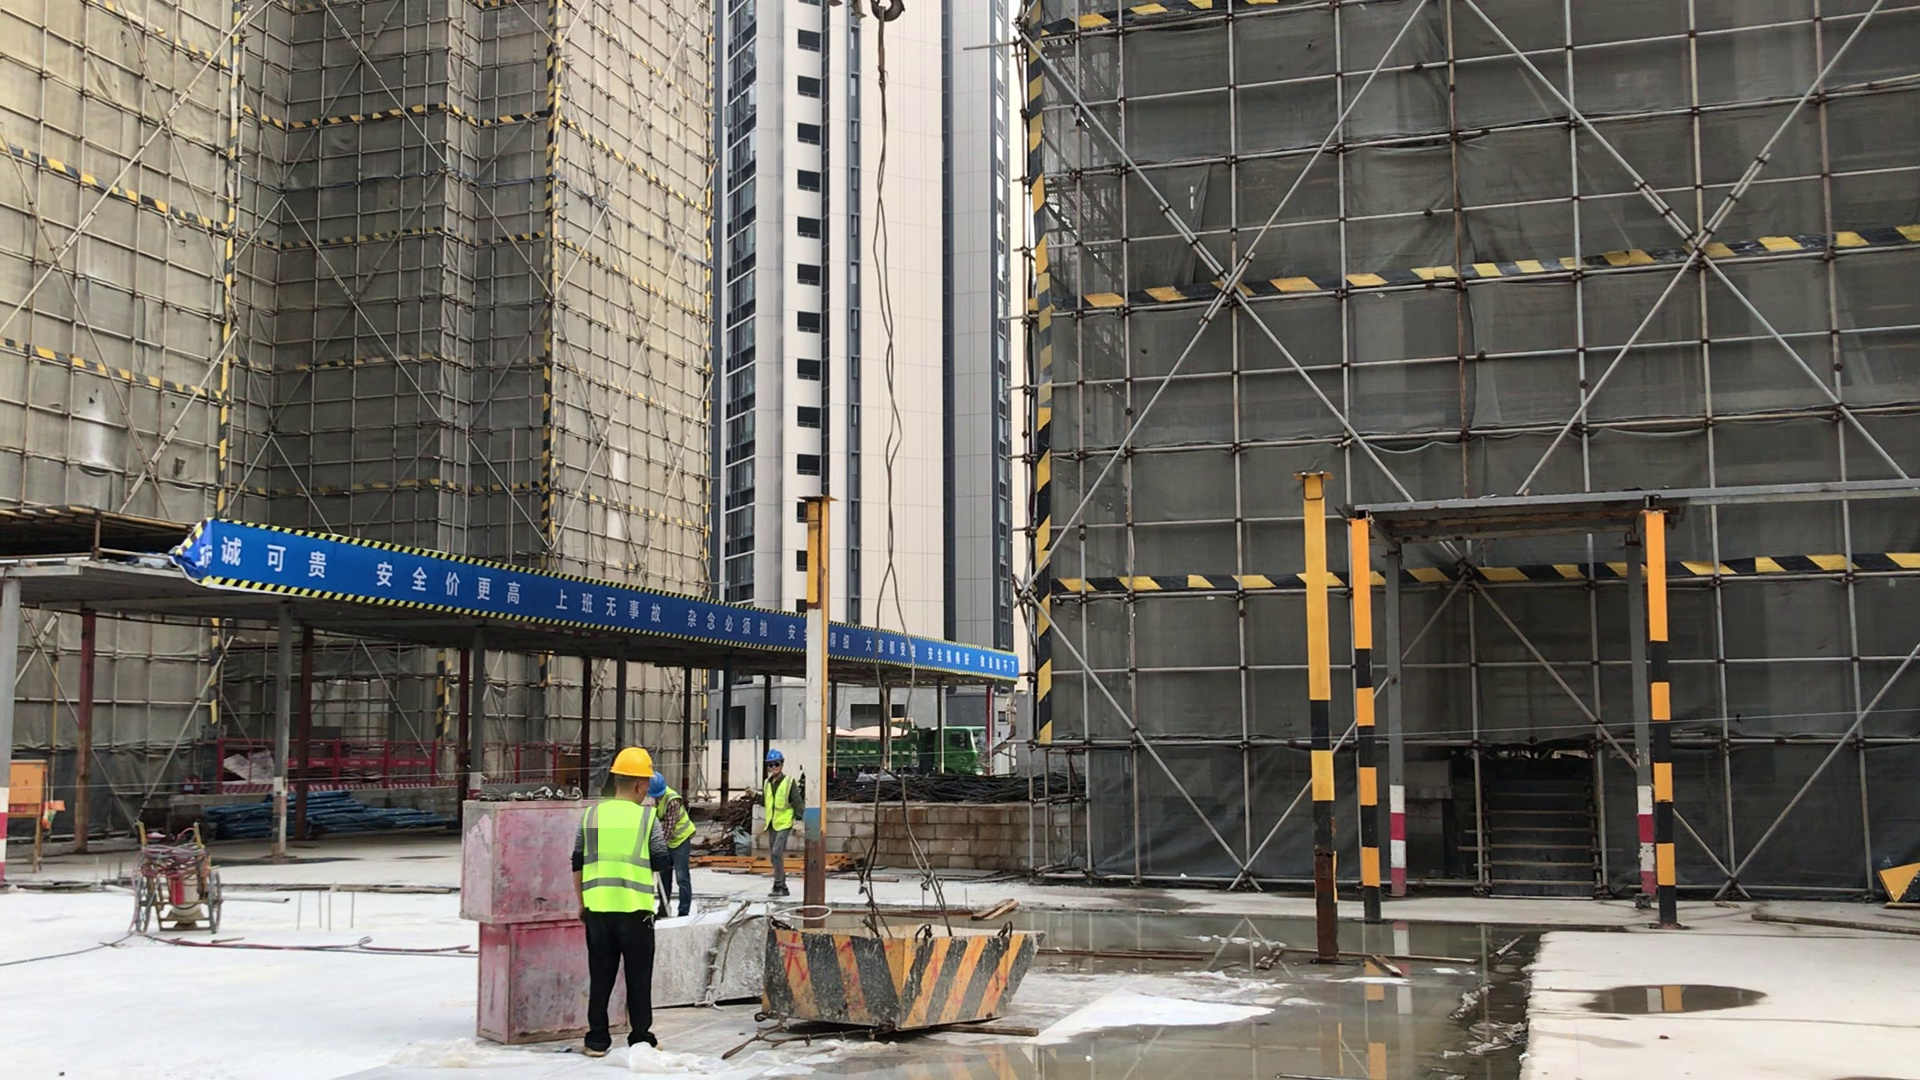fence: (219, 734, 581, 788)
handcart: (131, 810, 225, 942)
helmet: (610, 745, 654, 779), (647, 772, 665, 795), (765, 749, 782, 762)
hopper: (765, 923, 1036, 1043), (654, 904, 798, 1010)
person: (571, 747, 668, 1058), (744, 749, 806, 898), (642, 770, 697, 919)
slogan: (193, 516, 1020, 683)
vest: (582, 799, 654, 914), (657, 786, 696, 848), (762, 776, 792, 833)
